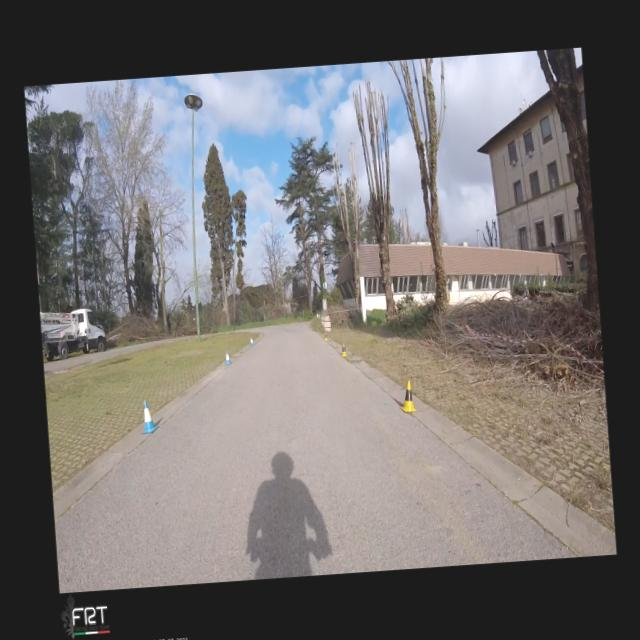blue_cone: (139, 399, 159, 434), (224, 350, 232, 364), (249, 336, 253, 346)
yellow_cone: (398, 378, 418, 412), (339, 341, 347, 356), (323, 332, 328, 341)
